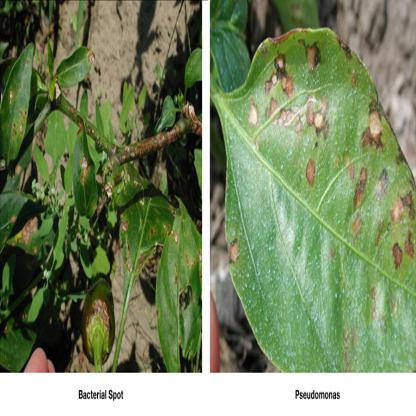Bell_pepper leaf spot: (220, 18, 416, 371), (155, 194, 202, 376), (119, 183, 177, 286), (0, 43, 36, 180), (70, 117, 101, 227), (52, 42, 98, 98)
